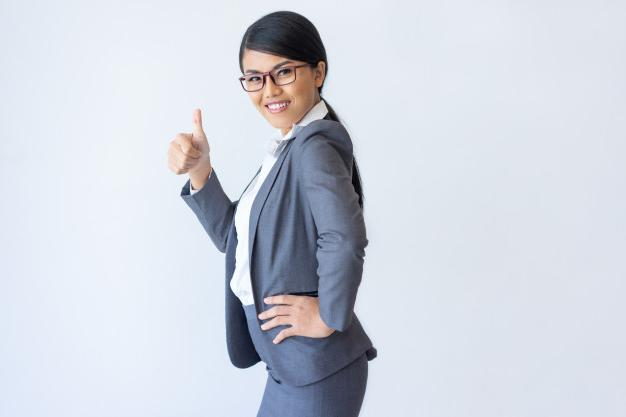thumbsup: (167, 108, 203, 175)
